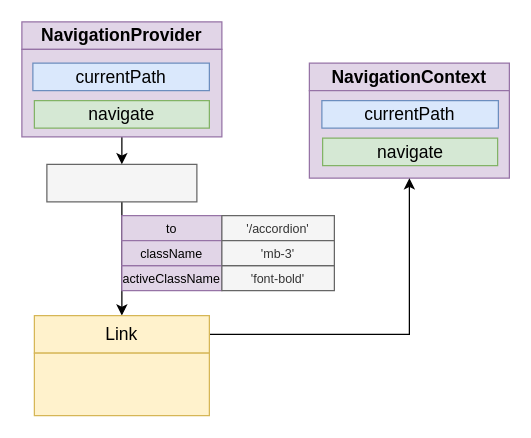
The diagram is 531 pixels wide and 438 high, and some of its shapes have lost their labels. The centre of each missing label's shape, as x and y in pixels:
"If to === currentPath, add 'activeClassName' to 'a'" belongs at point (121, 384).
"Sidebar" belongs at point (121, 182).
